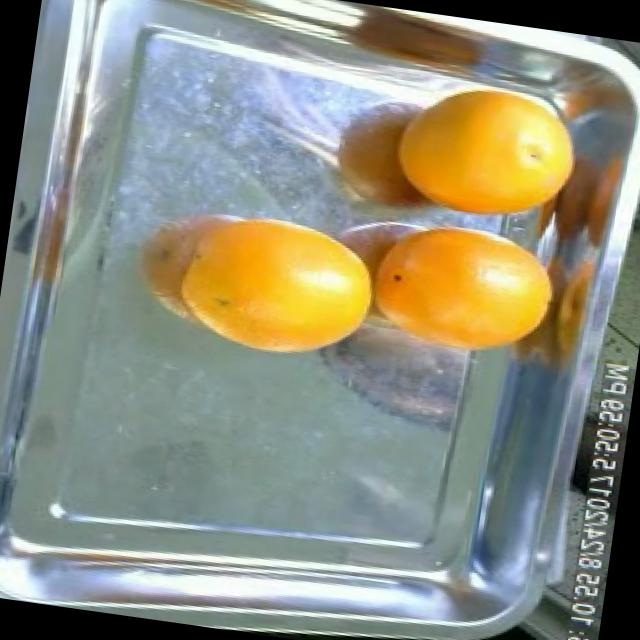Fruit: (178, 210, 392, 376)
